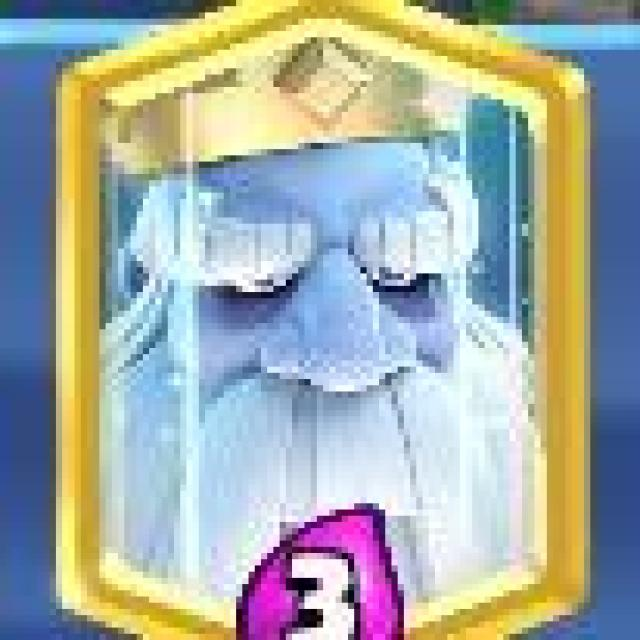Royal_Ghost: (58, 2, 588, 640)
